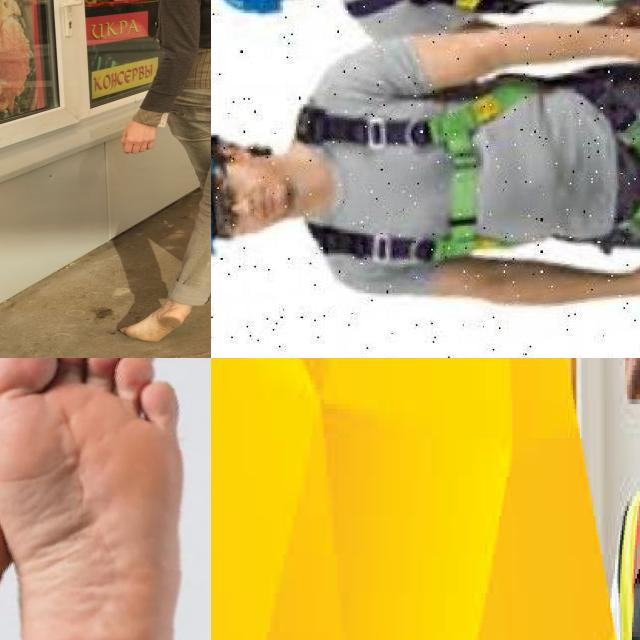Barefoots: (0, 358, 194, 640), (0, 358, 160, 597), (120, 309, 187, 342)
Harness: (287, 52, 640, 288), (328, 0, 640, 43)
